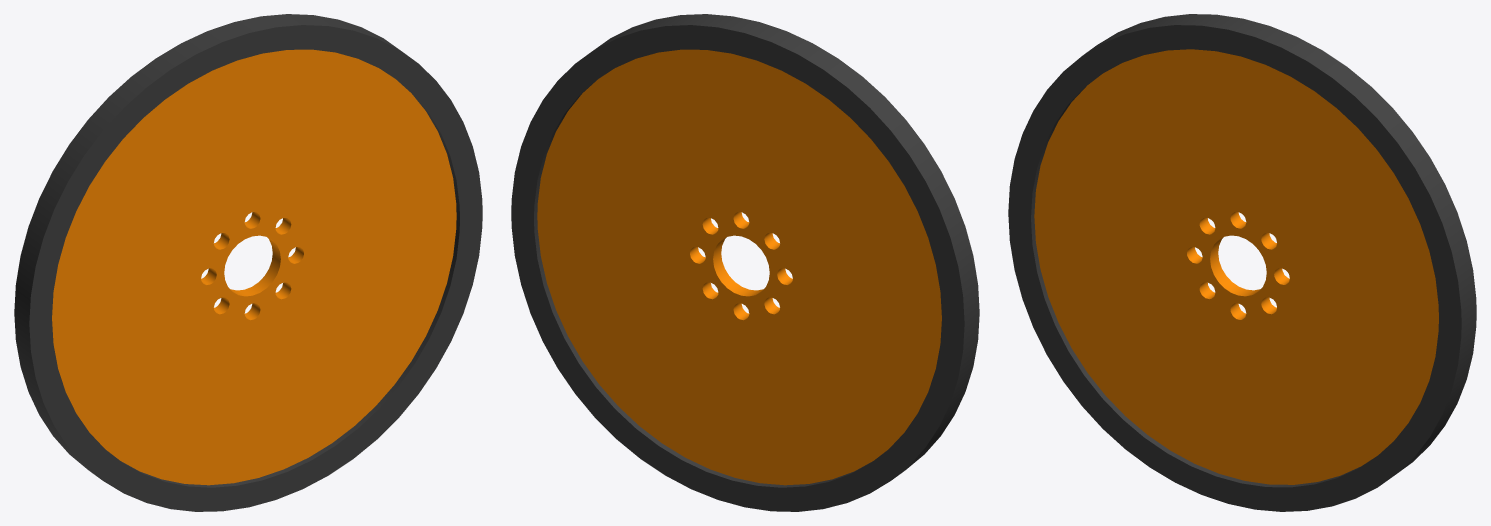
File: ROB-12210.obj
3 views of the same model, side by side, from view 1: azimuth 30°, elevation 25°; view 2: azimuth 150°, elevation 25°; view 3: azimuth 330°, elevation 25° (orthographic).
Visible parts, largest first — view 1: mesh 2 Boss-Extrude1, mesh 1 RO; view 2: mesh 2 Boss-Extrude1, mesh 1 RO; view 3: mesh 2 Boss-Extrude1, mesh 1 RO.
Part boxes in pixels (bbox=[...]): mesh 2 Boss-Extrude1: bbox=[52, 49, 456, 485]; mesh 1 RO: bbox=[14, 14, 482, 511]; mesh 2 Boss-Extrude1: bbox=[537, 49, 941, 485]; mesh 1 RO: bbox=[511, 14, 979, 511]; mesh 2 Boss-Extrude1: bbox=[1034, 49, 1438, 484]; mesh 1 RO: bbox=[1008, 14, 1476, 511].
Bounding box in the file's own units: 0.1016 × 0.1016 × 0.00584.
